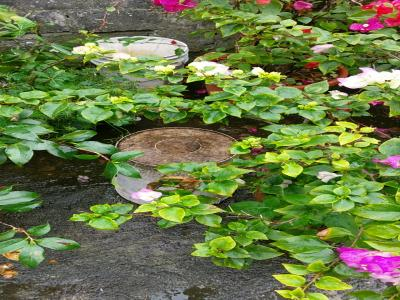bucket: (114, 124, 239, 204)
